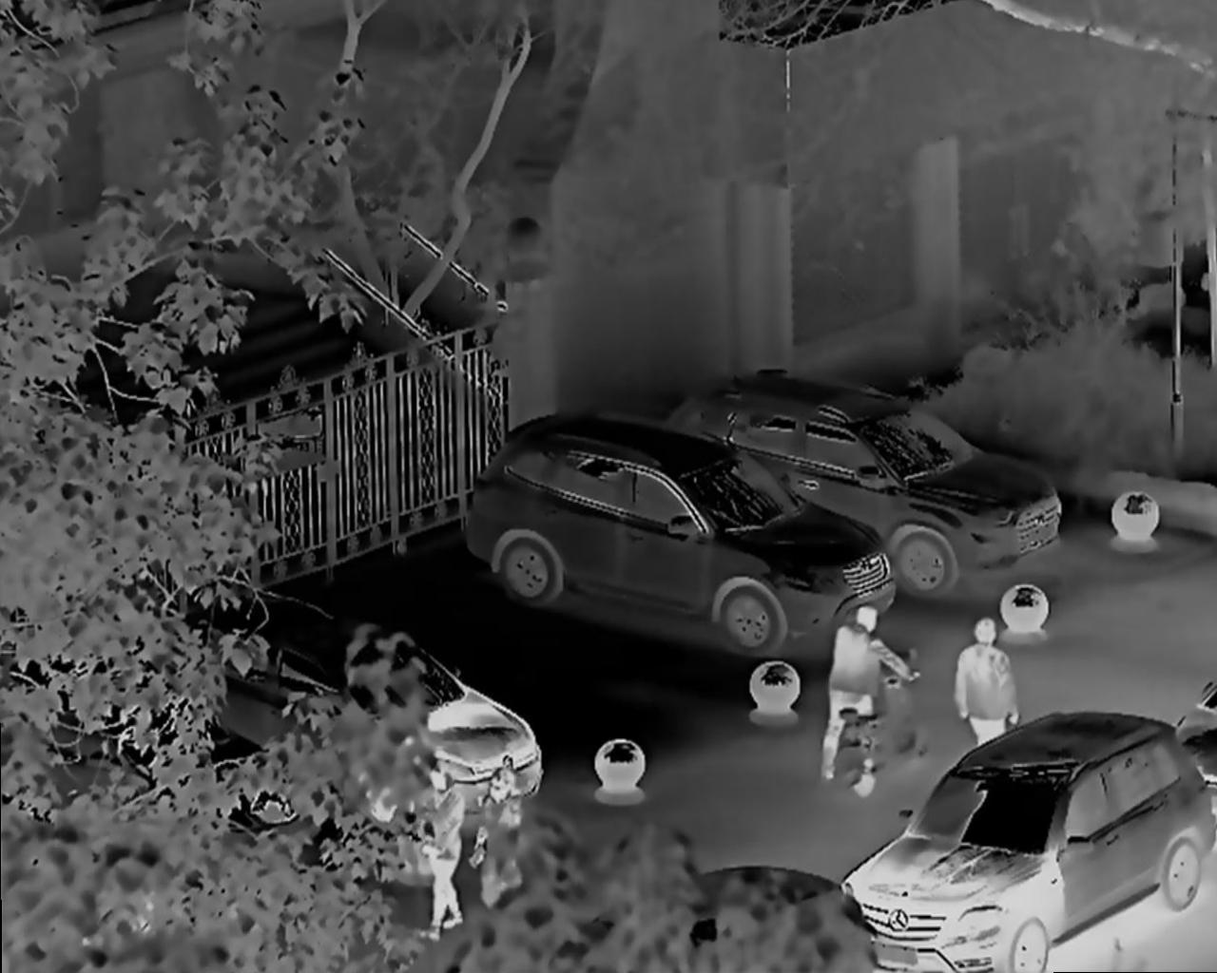person: (821, 597, 908, 807), (954, 616, 1034, 741), (418, 779, 462, 935), (486, 763, 514, 915)
